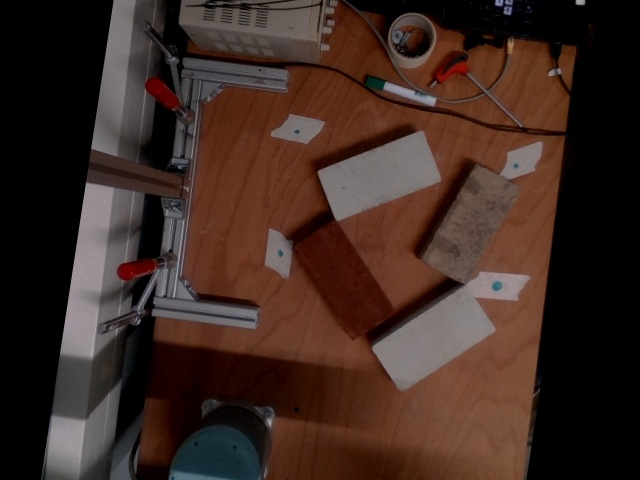brick: (374, 287, 492, 389), (424, 167, 518, 283), (296, 223, 390, 337), (320, 132, 437, 216)
